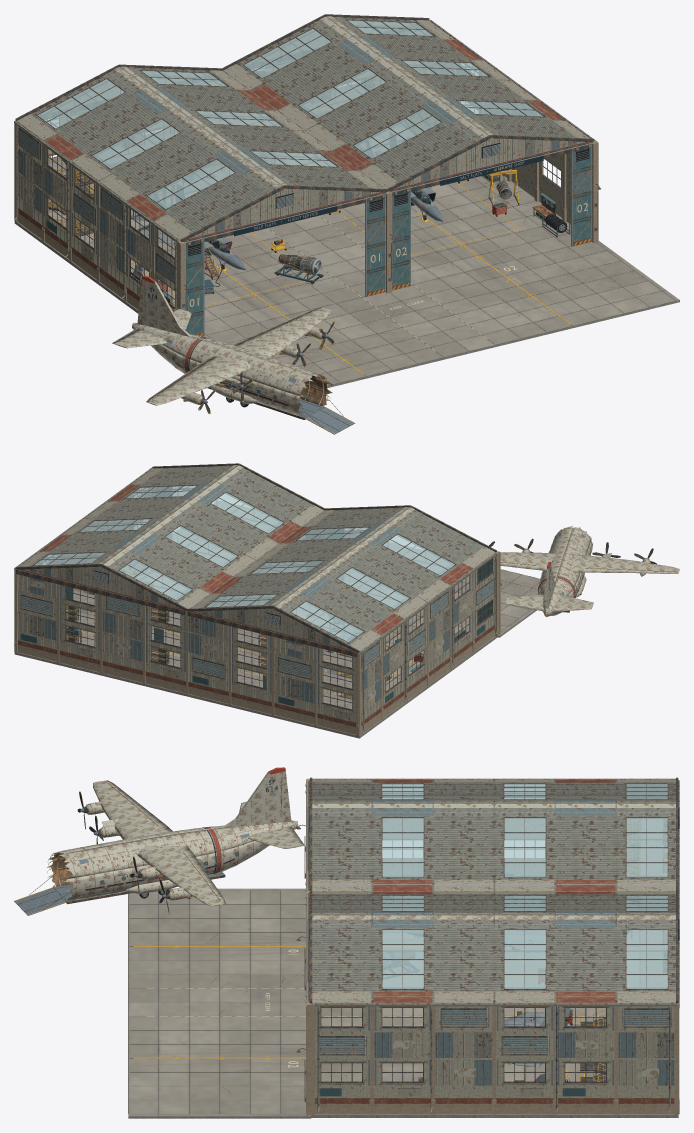
The model's file is salt-flats-hangar.glb.
3 renders of one model, top to bottom at view 1: azimuth 30°, elevation 25°; view 2: azimuth 150°, elevation 25°; view 3: azimuth 270°, elevation 25°, orthographic. The views are drawn at different scales.
Visible parts, largest first — view 1: Hardstand • jointed twin service apron, Masonry piers, open-web roof trusses and crest vents, H42 • high wing, rudder, stabilizers and rear bulkhead, Roof W.L.02 • Pristine, Roof W.L.03 • Pristine, Roof E.L.03 • Pristine, Roof E.L.02 • Pristine, Roof E.L.04 • Pristine, Roof E.L.05 • Pristine, Roof W.L.05 • Pristine, Roof W.L.04 • Pristine, Taxi guidance • gold parking boxes, lead-ins and aisle (+40 smaller); view 2: Masonry piers, open-web roof trusses and crest vents, Hardstand • jointed twin service apron, H42 • high wing, rudder, stabilizers and rear bulkhead, Roof W.L.05 • Pristine, Roof E.L.04 • Pristine, Roof E.L.05 • Pristine, Roof W.L.04 • Pristine, Roof W.L.03 • Pristine, Roof E.L.02 • Pristine, Roof E.L.03 • Pristine, Roof W.L.02 • Pristine, Roof W.L.01 • Pristine (+68 smaller); view 3: Hardstand • jointed twin service apron, H42 • high wing, rudder, stabilizers and rear bulkhead, Masonry piers, open-web roof trusses and crest vents, Roof E.R.02 • Pristine, Roof E.R.03 • Pristine, Roof E.R.04 • Pristine, Roof E.R.05 • Pristine, Roof W.R.02 • Pristine, Roof W.R.03 • Pristine, Roof W.R.04 • Pristine, Roof W.R.05 • Pristine, Roof E.R.01 • Pristine (+53 smaller).
Part boxes in pixels (x1,y1,x2,y2): Hardstand • jointed twin service apron: (14,126,679,387); Masonry piers, open-web roof trusses and crest vents: (14,14,597,308); H42 • high wing, rudder, stabilizers and rear bulkhead: (112,275,331,405); Roof W.L.02 • Pristine: (126,147,255,221); Roof W.L.03 • Pristine: (99,127,228,201); Roof E.L.03 • Pristine: (305,77,434,150); Roof E.L.02 • Pristine: (332,97,462,170); Roof E.L.04 • Pristine: (278,56,407,130); Roof E.L.05 • Pristine: (250,36,379,110); Roof W.L.05 • Pristine: (44,87,173,160); Roof W.L.04 • Pristine: (71,107,200,181); Taxi guidance • gold parking boxes, lead-ins and aisle: (32,179,675,385); Masonry piers, open-web roof trusses and crest vents: (14,463,499,736); Hardstand • jointed twin service apron: (14,501,540,738); H42 • high wing, rudder, stabilizers and rear bulkhead: (500,552,679,613); Roof W.L.05 • Pristine: (296,574,404,635); Roof E.L.04 • Pristine: (148,515,255,576); Roof E.L.05 • Pristine: (125,532,232,593); Roof W.L.04 • Pristine: (319,557,427,618); Roof W.L.03 • Pristine: (342,540,450,602); Roof E.L.02 • Pristine: (193,482,301,543); Roof E.L.03 • Pristine: (171,498,278,560); Roof W.L.02 • Pristine: (365,524,472,585); Roof W.L.01 • Pristine: (388,507,495,568); Hardstand • jointed twin service apron: (128,888,678,1118); H42 • high wing, rudder, stabilizers and rear bulkhead: (93,767,304,906); Masonry piers, open-web roof trusses and crest vents: (307,777,679,1115); Roof E.R.02 • Pristine: (372,915,433,1003); Roof E.R.03 • Pristine: (433,915,494,1003); Roof E.R.04 • Pristine: (494,915,555,1003); Roof E.R.05 • Pristine: (555,915,616,1003); Roof W.R.02 • Pristine: (372,803,433,891); Roof W.R.03 • Pristine: (433,803,494,891); Roof W.R.04 • Pristine: (494,803,555,891); Roof W.R.05 • Pristine: (555,803,616,891); Roof E.R.01 • Pristine: (312,915,372,1003).
Size of the model in its own units: 275 by 64.27 by 262.
Materials: 36 (21 with a texture image).
